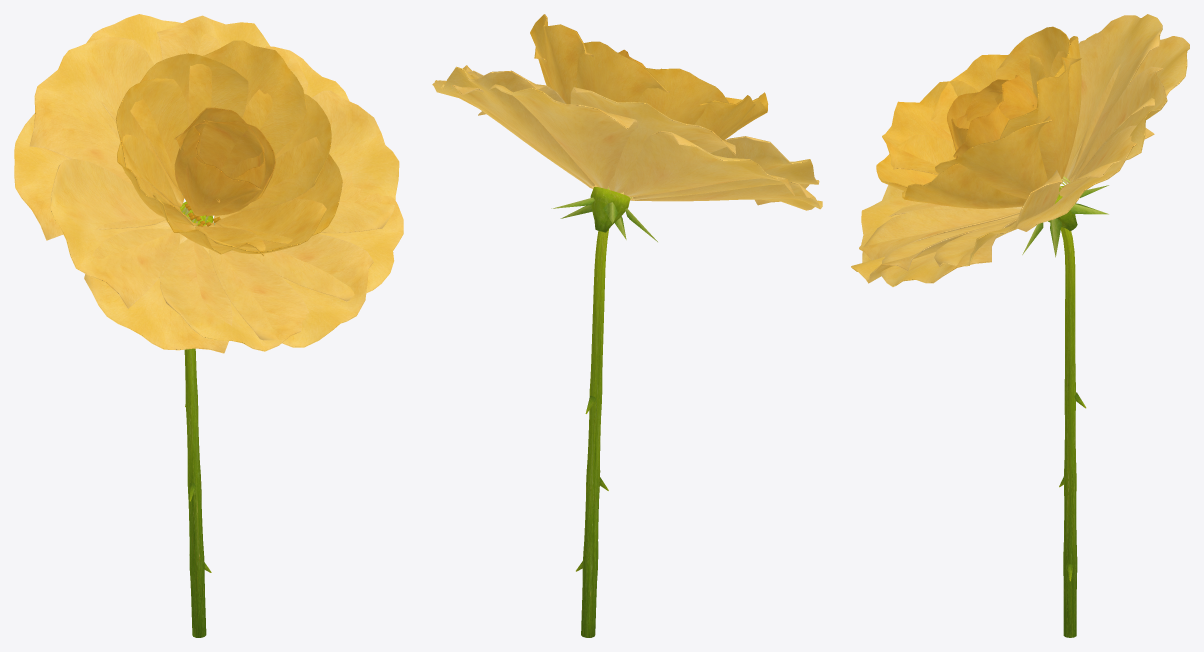
Rendered from color_5.glb.
The picture shows the model from 3 angles, left to right: view 1: azimuth 30°, elevation 25°; view 2: azimuth 150°, elevation 25°; view 3: azimuth 270°, elevation 25°; orthographic projection.
Visible parts, largest first — view 1: Petal_1_outer_03, Petal_3_outer_04, Petal_5_outer_04, Petal_6_outer_02, Petal_4_outer_01, Petal_8_outer_02, Petal_15_middle_03, Petal_7_outer_03, Petal_17_middle_01, Petal_16_middle_04, Stem_Skinned, Petal_14_middle_04 (+13 smaller); view 2: Petal_0_outer_01, Stem_Skinned, Petal_2_outer_01, Petal_10_outer_02, Petal_1_outer_03, Petal_16_middle_04, Petal_3_outer_04, Petal_17_middle_01, Petal_15_middle_03, Petal_4_outer_01, Hypanthium_and_five_sepals, Petal_18_middle_02 (+2 smaller); view 3: Petal_1_outer_03, Stem_Skinned, Petal_14_middle_04, Petal_6_outer_02, Petal_10_outer_02, Petal_15_middle_03, Petal_11_middle_03, Petal_13_middle_02, Petal_7_outer_03, Petal_0_outer_01, Petal_8_outer_02, Petal_5_outer_04 (+10 smaller).
Boxes of the visible parts, x1,y1,x2,y2 form: Petal_1_outer_03: [29, 37, 154, 186]; Petal_3_outer_04: [50, 159, 179, 308]; Petal_5_outer_04: [159, 239, 309, 351]; Petal_6_outer_02: [209, 234, 373, 347]; Petal_4_outer_01: [84, 228, 232, 353]; Petal_8_outer_02: [312, 90, 399, 233]; Petal_15_middle_03: [188, 40, 306, 155]; Petal_7_outer_03: [246, 172, 403, 301]; Petal_17_middle_01: [115, 78, 188, 206]; Petal_16_middle_04: [130, 53, 248, 191]; Stem_Skinned: [184, 212, 211, 637]; Petal_14_middle_04: [237, 89, 331, 211]; Petal_0_outer_01: [489, 84, 638, 188]; Stem_Skinned: [576, 229, 608, 637]; Petal_2_outer_01: [624, 130, 794, 197]; Petal_10_outer_02: [441, 66, 594, 186]; Petal_1_outer_03: [570, 87, 735, 193]; Petal_16_middle_04: [576, 41, 669, 102]; Petal_3_outer_04: [633, 136, 819, 200]; Petal_17_middle_01: [638, 67, 728, 124]; Petal_15_middle_03: [530, 14, 593, 104]; Petal_4_outer_01: [632, 182, 822, 210]; Hypanthium_and_five_sepals: [551, 187, 657, 241]; Petal_18_middle_02: [694, 95, 755, 138]; Petal_1_outer_03: [1063, 14, 1162, 182]; Stem_Skinned: [1059, 227, 1086, 637]; Petal_14_middle_04: [935, 116, 1051, 198]; Petal_6_outer_02: [851, 206, 1020, 283]; Petal_10_outer_02: [1059, 66, 1167, 196]; Petal_15_middle_03: [1000, 57, 1081, 184]; Petal_11_middle_03: [882, 80, 978, 174]; Petal_13_middle_02: [902, 163, 1026, 208]; Petal_7_outer_03: [881, 217, 1018, 286]; Petal_0_outer_01: [1070, 36, 1189, 181]; Petal_8_outer_02: [934, 170, 1062, 266]; Petal_5_outer_04: [859, 185, 1021, 260].
Size of the model in its own units: 0.1988 by 0.3289 by 0.1713.
7 materials, 7 textured.
